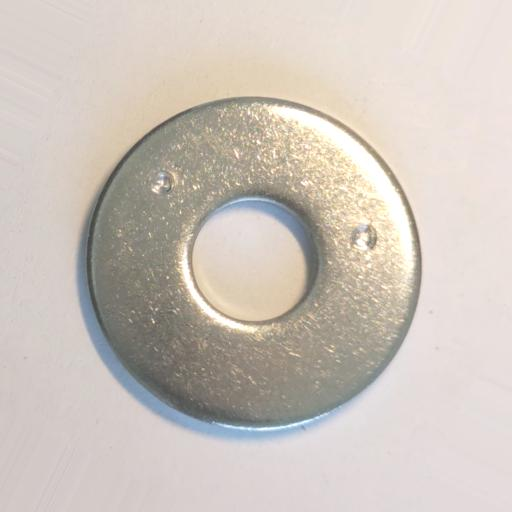circular_cavity: (350, 224, 378, 251), (151, 170, 176, 195)
